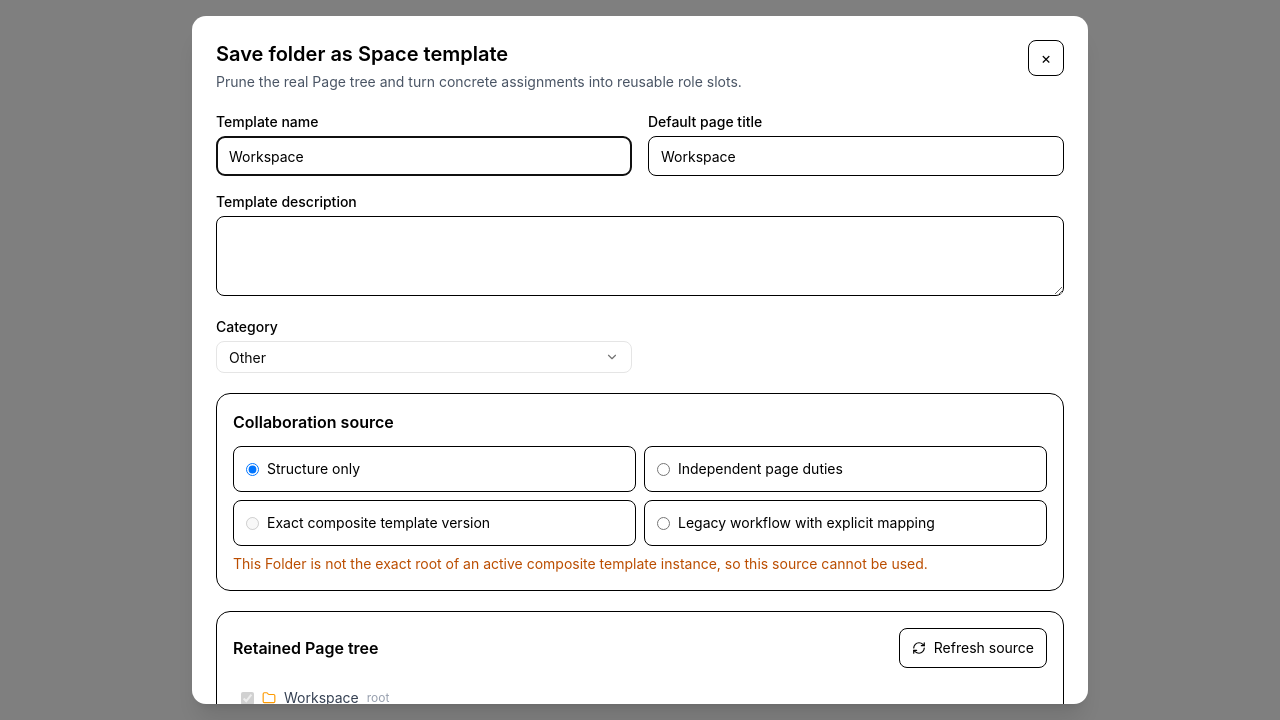
Scenario: SaveFolderAsTemplateDialog › reconciles SOURCE_CHANGED by actual IDs without silently replacing retained input
This screenshot has width=1280, height=720.
Check: the text "Workspace" is shown, box [284,688,359,704]
Replace the text in the field labelled "Template name" with "My retained name" at (424, 156), box [216,136,632,176]
(page scrolled)
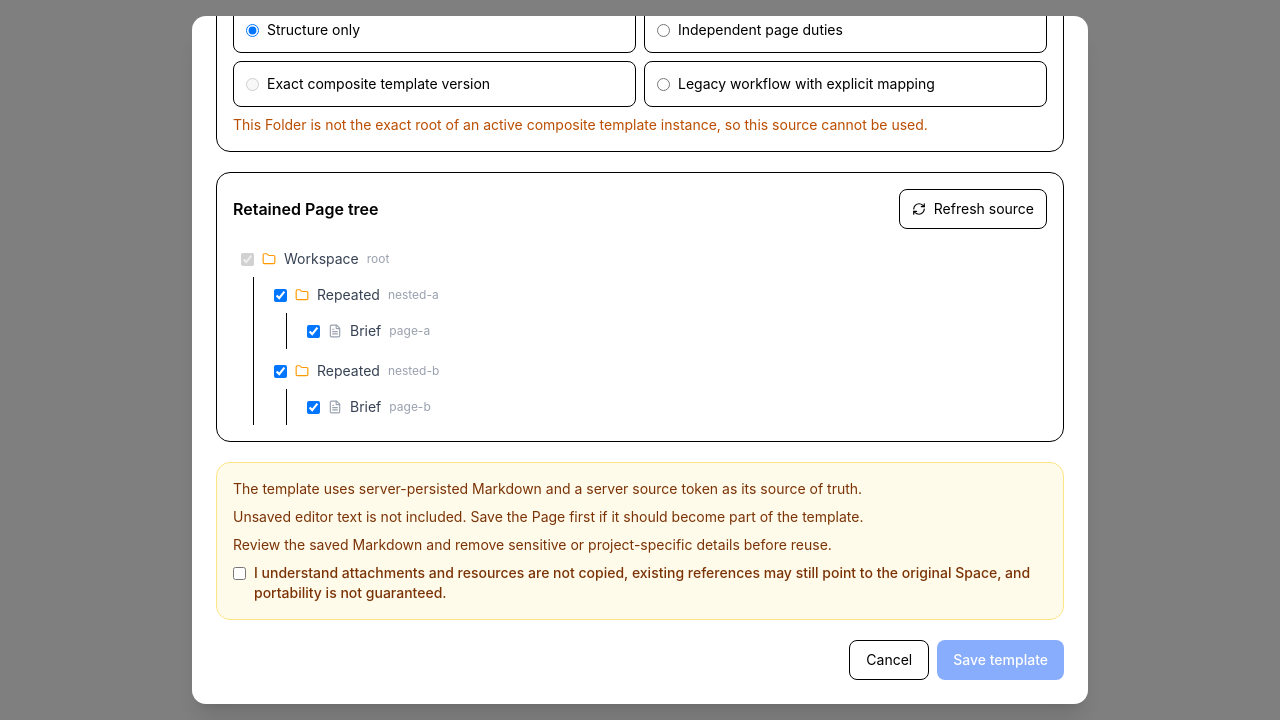
Click the checkbox labelled "attachments and resources are not copied" at (240, 574), box [233,567,246,580]
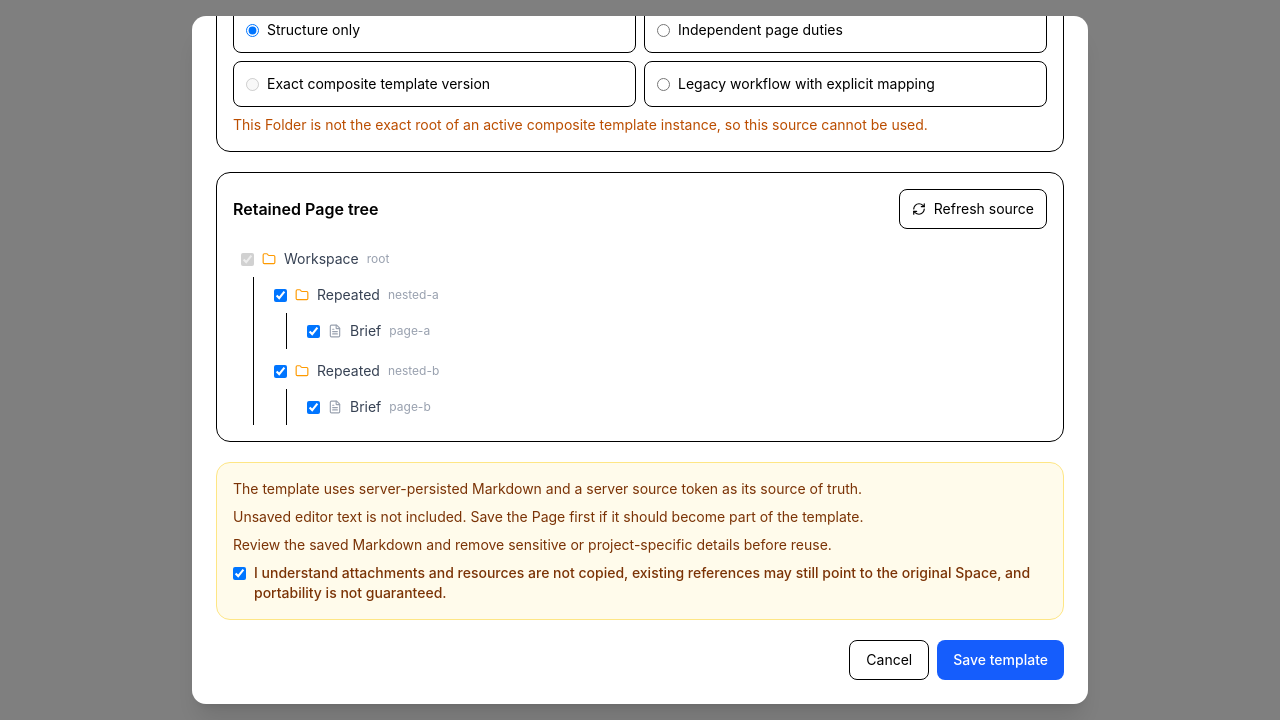
Click the button "Save template" at (1001, 660), box [937,640,1064,680]
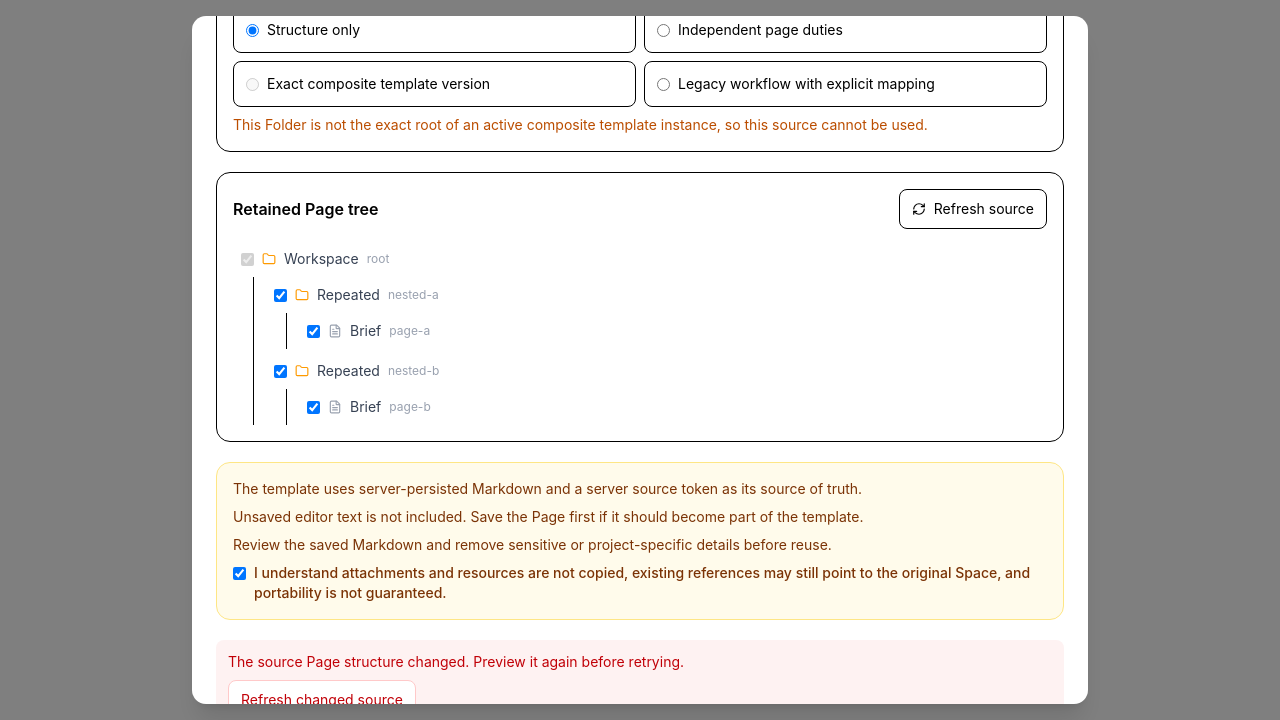
Check: the button "Refresh changed source" is shown, box [228,680,416,704]
Click the button "Refresh changed source" at (322, 700), box [228,680,416,719]
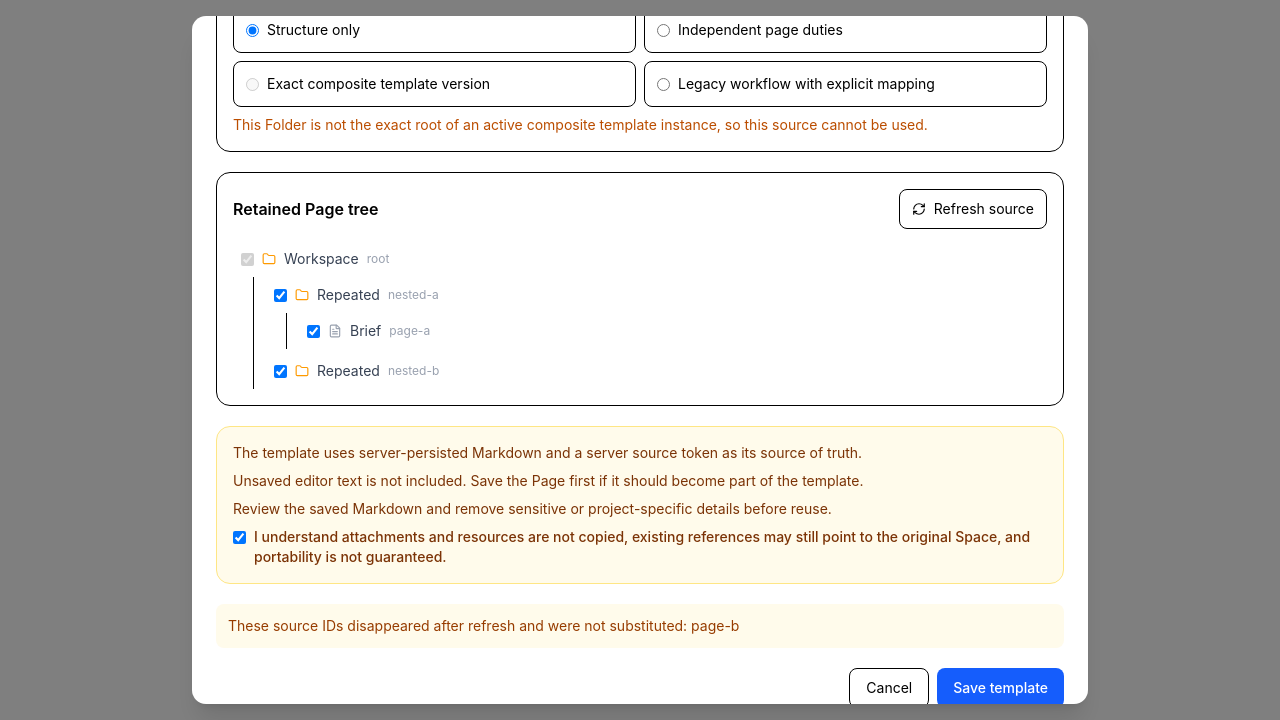
Check: the text "These source IDs disappeared after refresh and were not substituted: page-b" is shown, box [216,604,1064,648]
